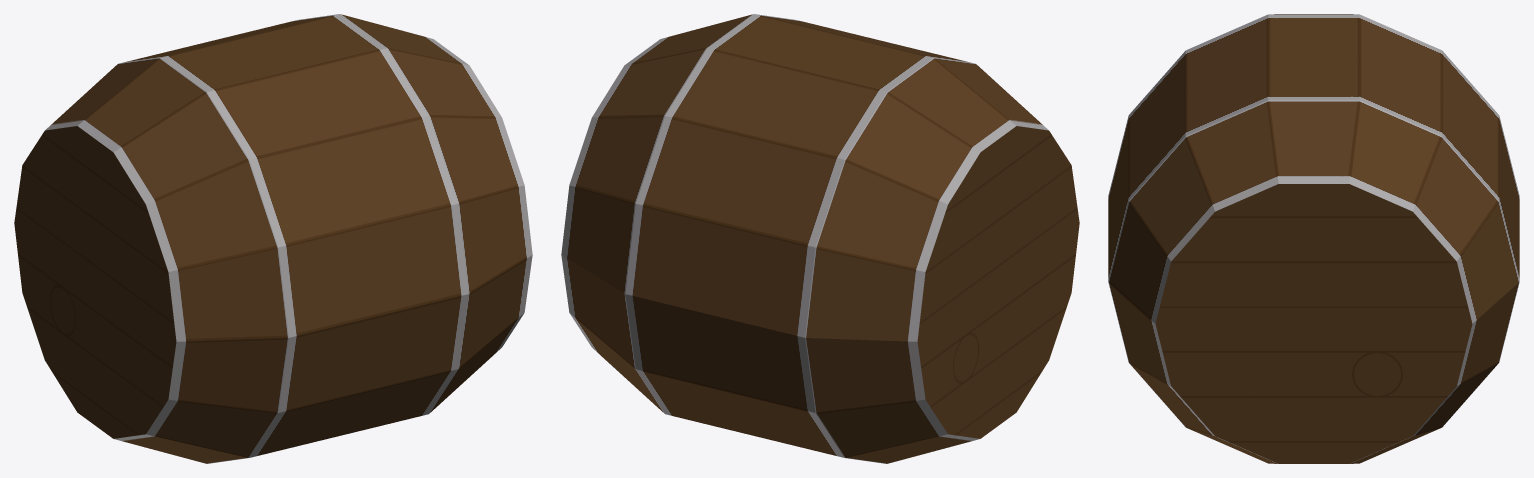
File: prmBarrel.fbx
3 views of the same model, side by side, from view 1: azimuth 30°, elevation 25°; view 2: azimuth 150°, elevation 25°; view 3: azimuth 270°, elevation 25° (orthographic). The views are drawn at different scales.
Parts seen in each view (by area): view 1: prmBarrel; view 2: prmBarrel; view 3: prmBarrel.
Part boxes in pixels (x1,y1,x2,y2): prmBarrel: (14,14,532,463); prmBarrel: (561,14,1079,463); prmBarrel: (1108,14,1519,463).
Size of the model in its own units: 203 by 202 by 208.
Materials: 1 (1 with a texture image).
